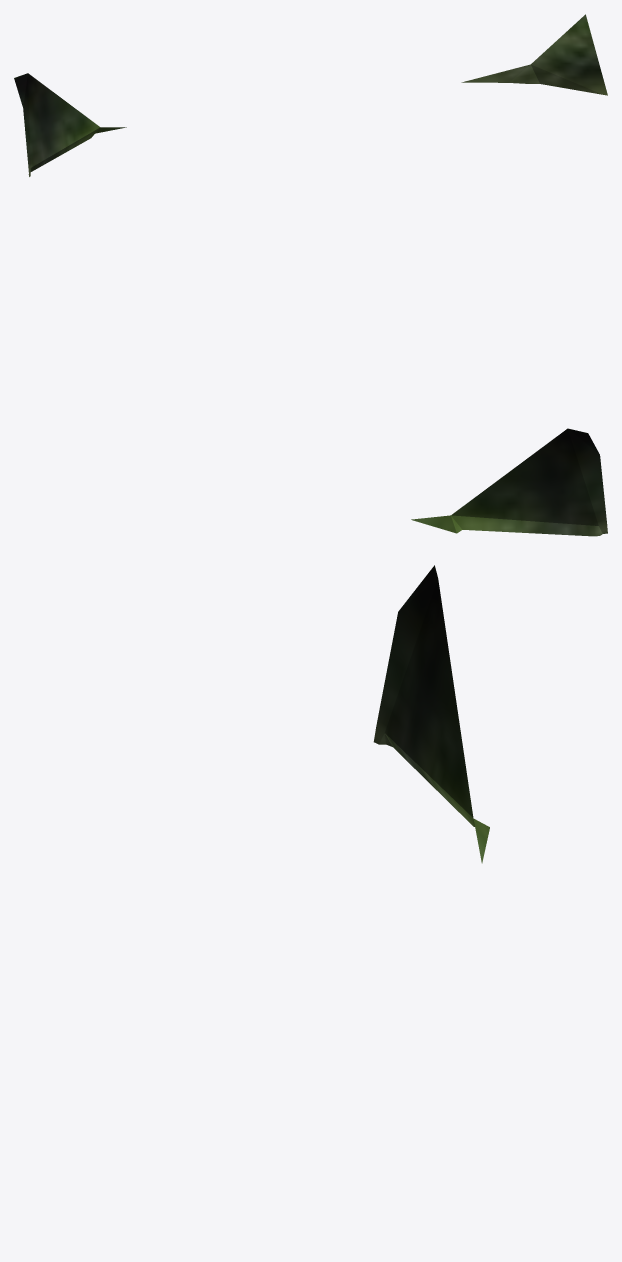
The picture shows the model from 3 angles, top to bottom: view 1: azimuth 30°, elevation 25°; view 2: azimuth 150°, elevation 25°; view 3: azimuth 270°, elevation 25°; orthographic projection. The views are drawn at different scales.
Size of the model in its own units: 27.74 by 4.56 by 8.31.
Materials: 1 (1 with a texture image).
